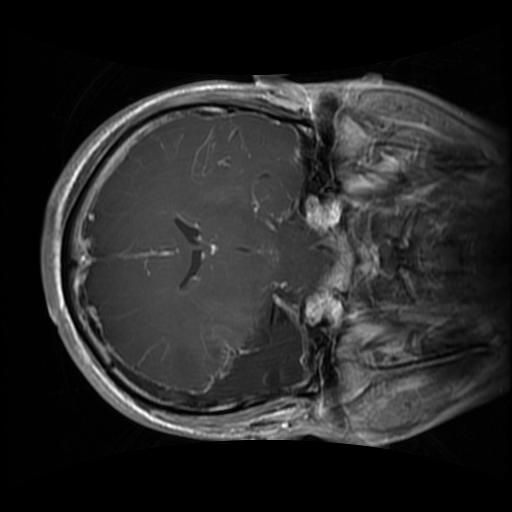glioma: (176, 298, 305, 414)
